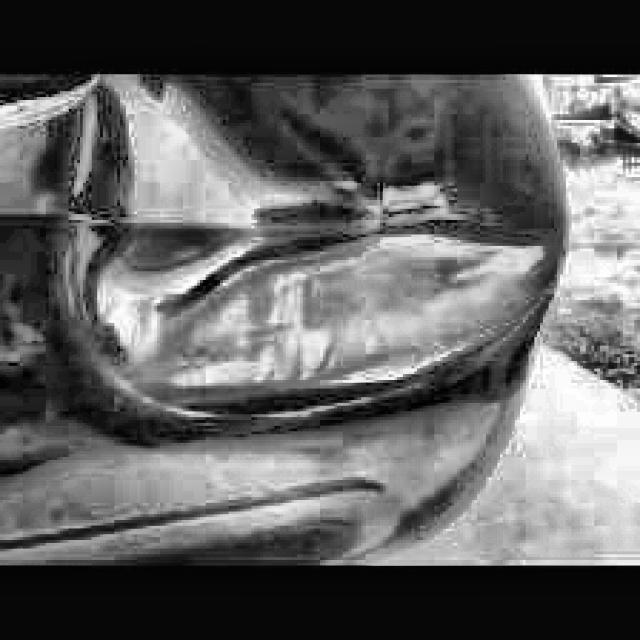bumper_dent: (79, 78, 564, 409)
